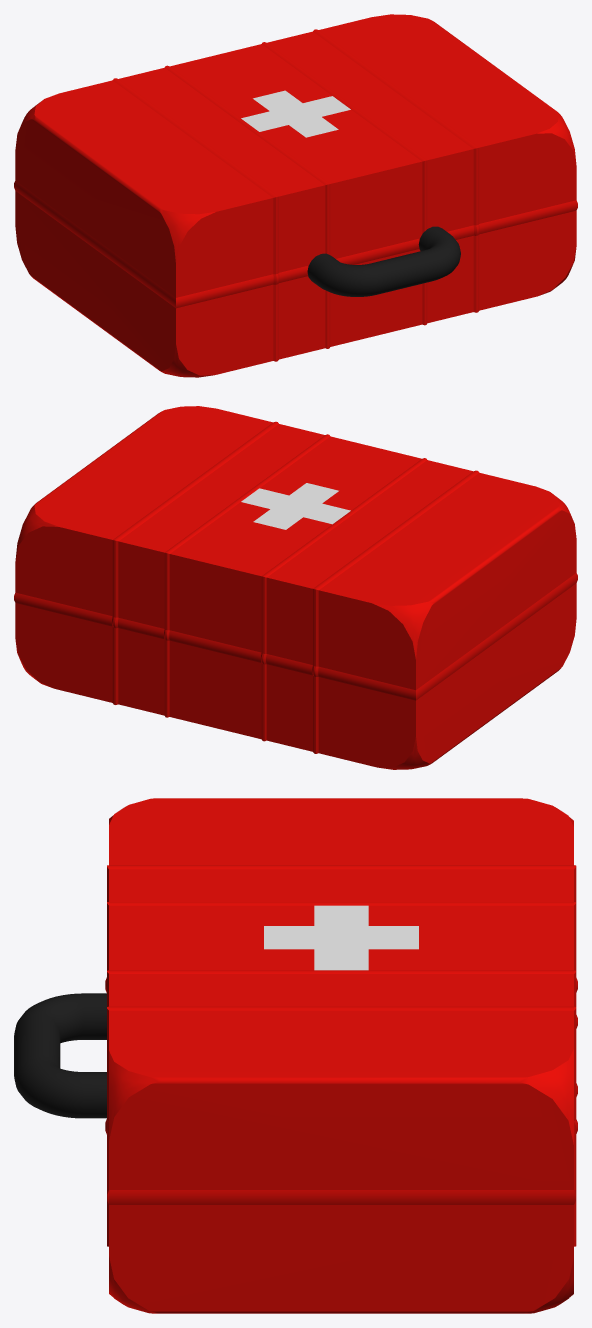
File: medkit.glb
The picture shows the model from 3 angles, top to bottom: view 1: azimuth 30°, elevation 25°; view 2: azimuth 150°, elevation 25°; view 3: azimuth 270°, elevation 25°; orthographic projection. The views are drawn at different scales.
Parts seen in each view (by area): view 1: Cube, Cylinder; view 2: Cube; view 3: Cube, Cylinder.
Part boxes in pixels (bbox=[...]): Cube: bbox=[14, 14, 577, 377]; Cylinder: bbox=[307, 226, 460, 296]; Cube: bbox=[14, 406, 577, 769]; Cube: bbox=[105, 798, 577, 1313]; Cylinder: bbox=[14, 993, 106, 1118].
Size of the model in its own units: 0.3614 by 0.1413 by 0.3032.
